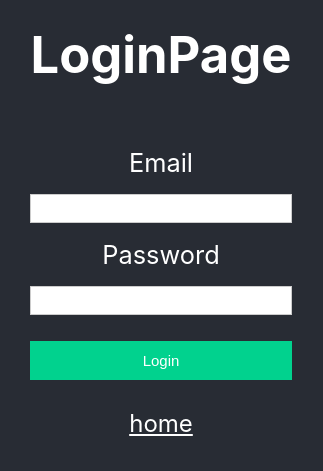
Test: Login Page › when form › is invalid › should show an error
The image size is (323, 471).
In the field: (162, 210) left=31, top=195, right=292, bottom=224, type "hello@example.com"
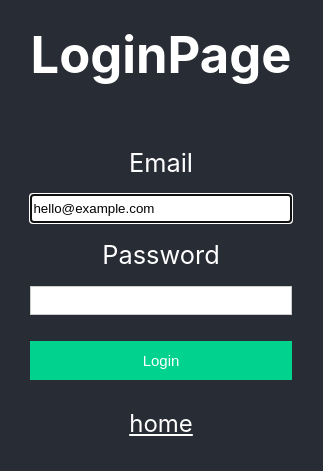
In the password field: (162, 302) left=31, top=287, right=292, bottom=316, type "123456"
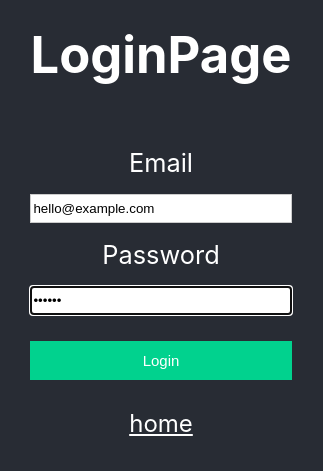
Click the button: (162, 362) left=31, top=342, right=292, bottom=381
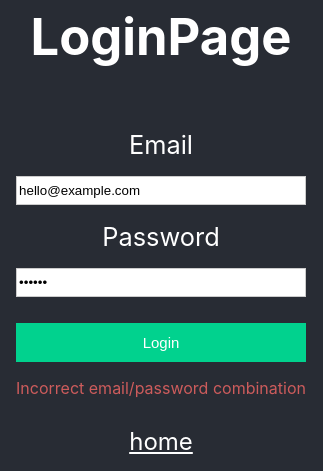
Now the text "Incorrect email/password combination" is shown, box left=16, top=378, right=306, bottom=398
